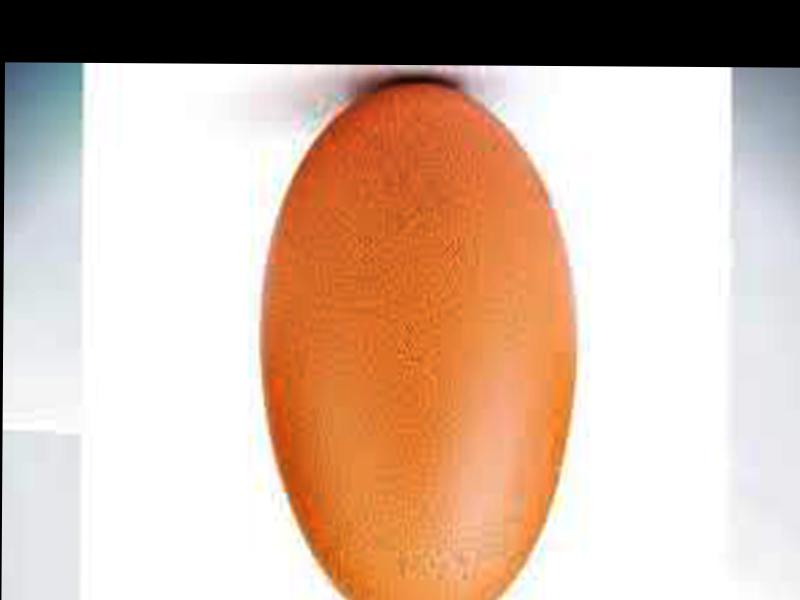Eggs: (259, 81, 577, 600)
